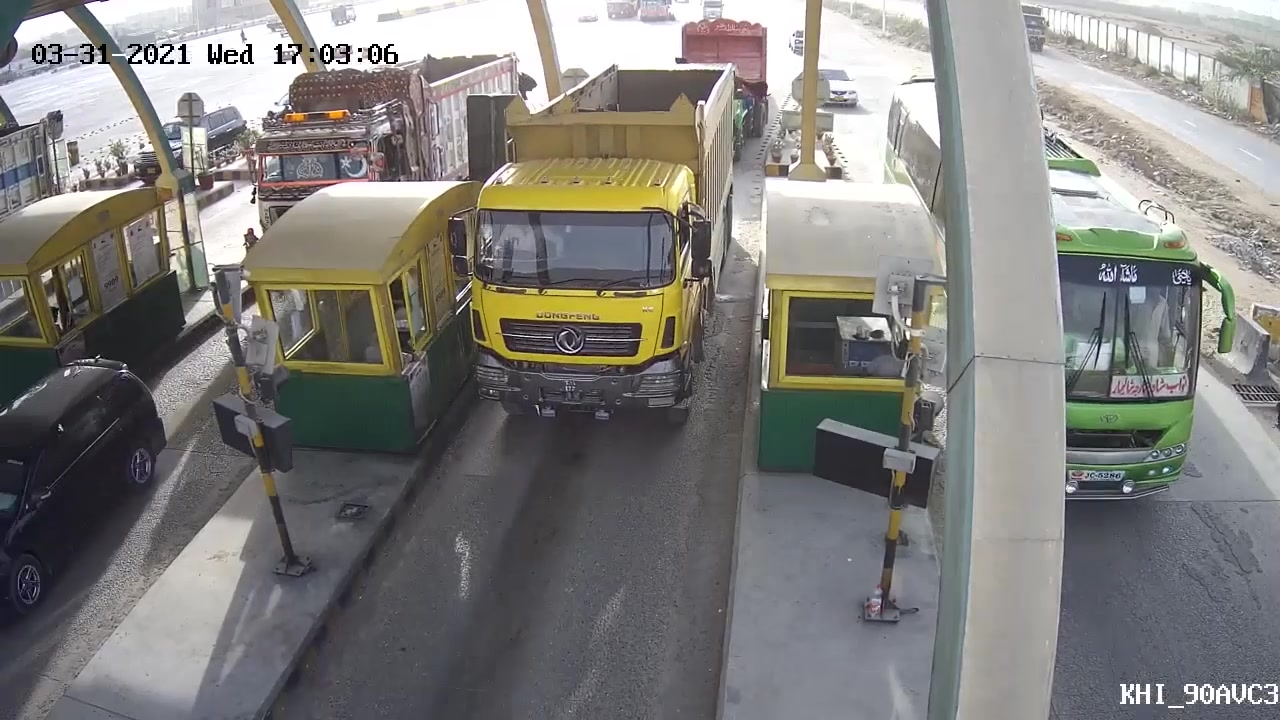F5: (446, 56, 743, 447)
